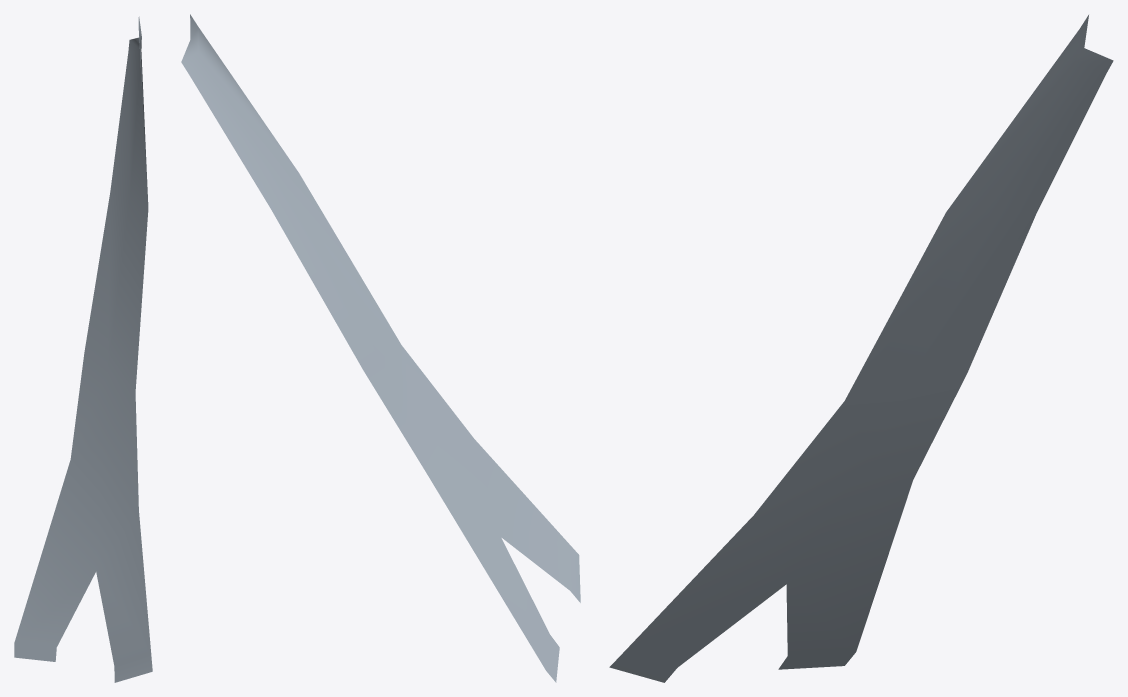
File: sphenomandibular-ligament-r.glb
3 renders of one model, left to right at view 1: azimuth 30°, elevation 25°; view 2: azimuth 150°, elevation 25°; view 3: azimuth 270°, elevation 25°, orthographic. The views are drawn at different scales.
Parts seen in each view (by area): view 1: Sphenomandibular ligament.r; view 2: Sphenomandibular ligament.r; view 3: Sphenomandibular ligament.r.
Boxes of the visible parts, x1,y1,x2,y2 form: Sphenomandibular ligament.r: [14, 16, 152, 682]; Sphenomandibular ligament.r: [181, 14, 580, 682]; Sphenomandibular ligament.r: [609, 15, 1113, 682].
Size of the model in its own units: 0.0105 by 0.0259 by 0.0147.
